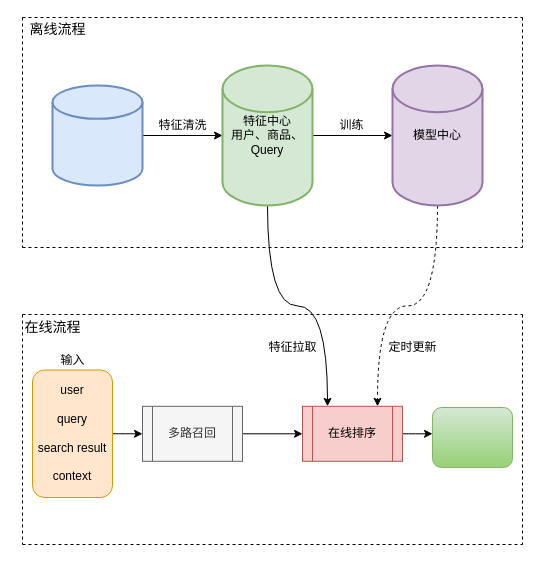
Some shapes in this 541 by 563 pixel diagram are drawn without their labels. The box of each missing label's shape, as (x1, y1, x2, y2) in pixels:
推荐列表: (432, 406, 512, 468)
数据中心 Hive、ES: (51, 84, 143, 186)
